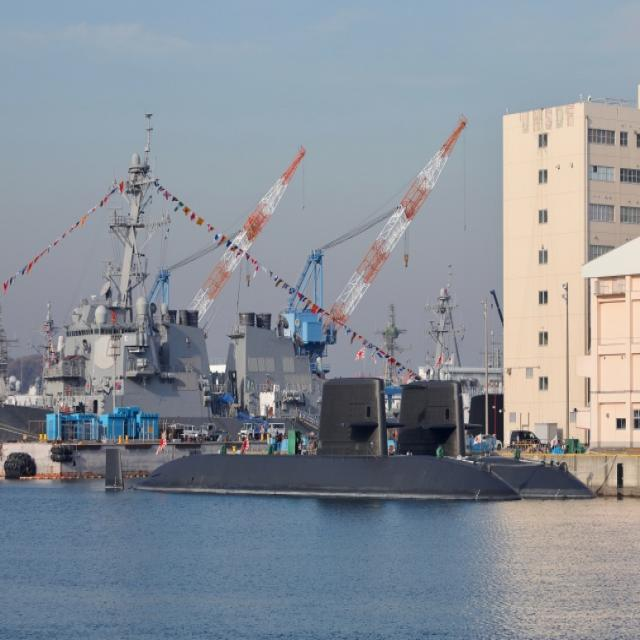submarine: (105, 371, 517, 493), (380, 379, 591, 499)
